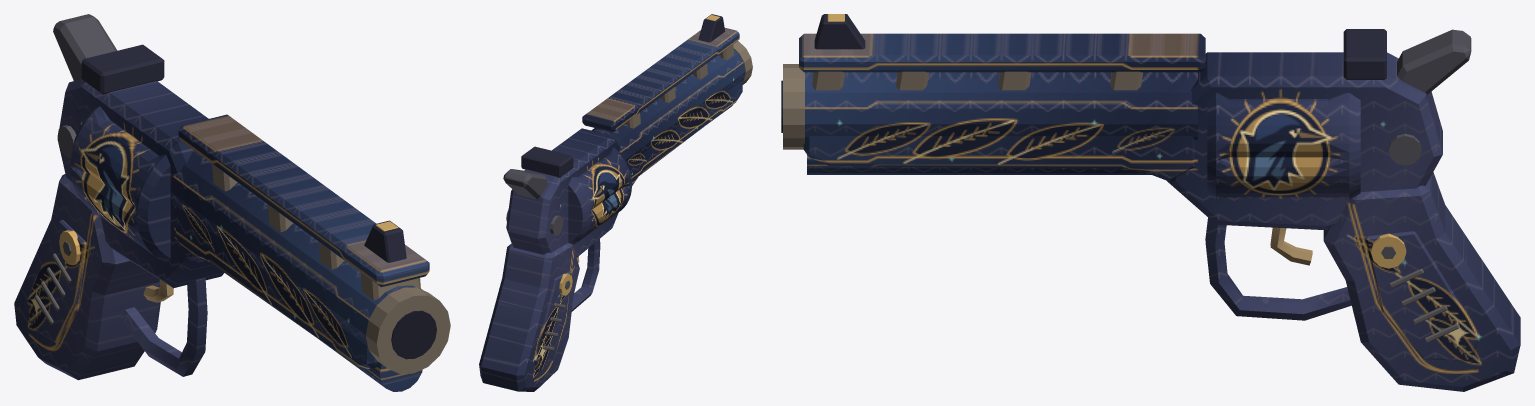
The model's file is Magnum_Corvus.glb.
3 views of the same model, side by side, from view 1: azimuth 30°, elevation 25°; view 2: azimuth 150°, elevation 25°; view 3: azimuth 270°, elevation 25° (orthographic). The views are drawn at different scales.
Parts seen in each view (by area): view 1: Main, Cylinder, Hammer; view 2: Main, Cylinder, Hammer; view 3: Main, Cylinder, Hammer.
Boxes of the visible parts, <box> form: Main: <box>14,44,450,391</box>; Cylinder: <box>70,106,170,262</box>; Hammer: <box>53,14,117,80</box>; Main: <box>479,14,752,391</box>; Cylinder: <box>568,147,631,244</box>; Hammer: <box>503,169,547,199</box>; Main: <box>781,14,1520,391</box>; Cylinder: <box>1207,93,1360,200</box>; Hammer: <box>1397,29,1471,94</box>.
Size of the model in its own units: 0.45 by 1.28 by 2.38.
1 material, 1 textured.
